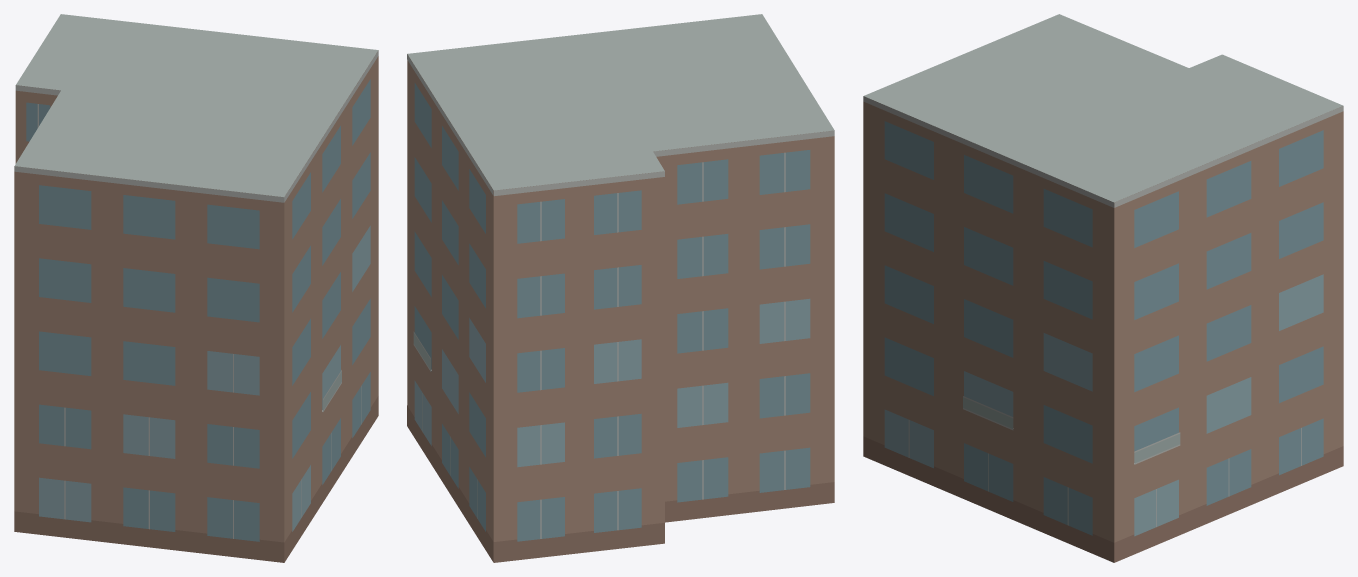
File: survey-upis-32691504.glb
The picture shows the model from 3 angles, left to right: view 1: azimuth 30°, elevation 25°; view 2: azimuth 150°, elevation 25°; view 3: azimuth 270°, elevation 25°; orthographic projection. The views are drawn at different scales.
Visible parts, largest first — view 1: survey-upis-32691504.tmp; view 2: survey-upis-32691504.tmp; view 3: survey-upis-32691504.tmp.
Part boxes in pixels (x1,y1,x2,y2): survey-upis-32691504.tmp: (14, 14, 378, 562); survey-upis-32691504.tmp: (407, 14, 834, 562); survey-upis-32691504.tmp: (863, 14, 1343, 562).
Bounding box in the file's own units: 17.9 × 15.95 × 19.26.
